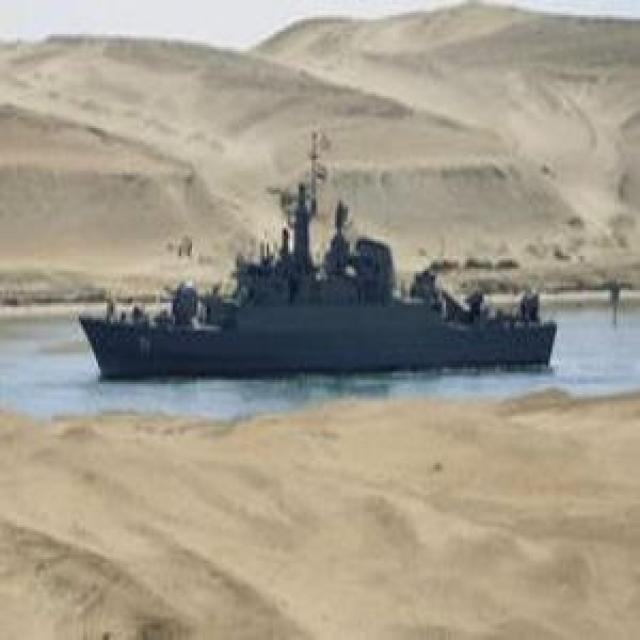navalvessels: (75, 168, 571, 369)
